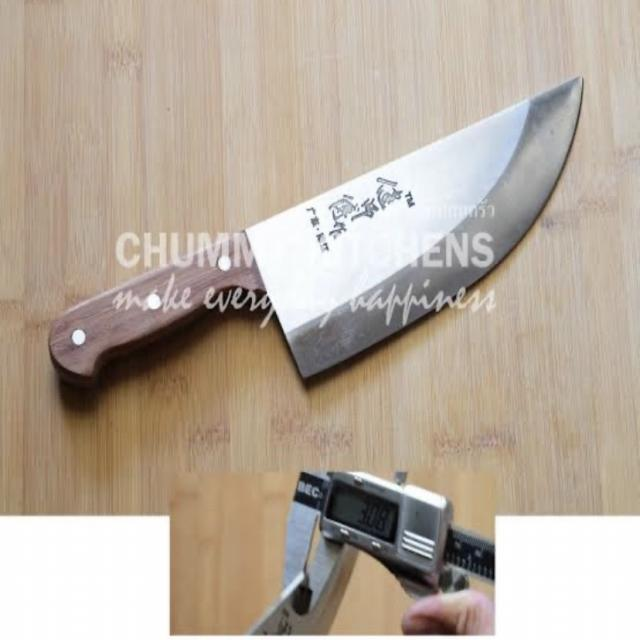Knife: (37, 70, 589, 417)
